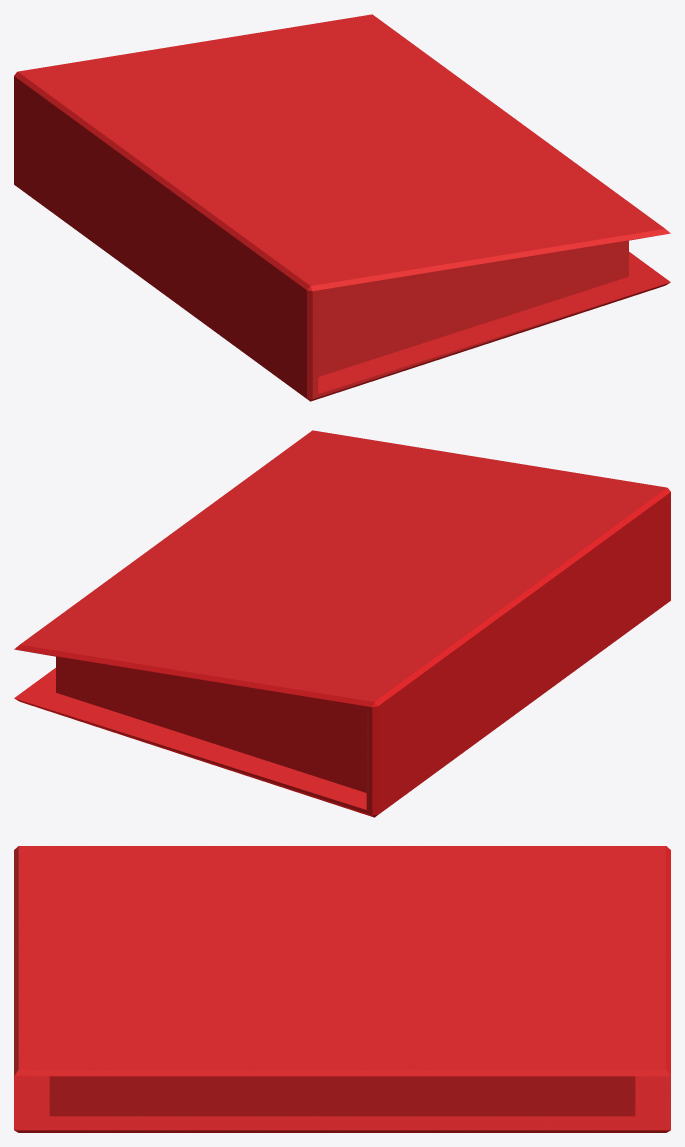
Rendered from DocFolderRed_004.fbx.
The picture shows the model from 3 angles, top to bottom: view 1: azimuth 30°, elevation 25°; view 2: azimuth 150°, elevation 25°; view 3: azimuth 270°, elevation 25°; orthographic projection. The views are drawn at different scales.
Parts seen in each view (by area): view 1: DocFolderRed_004; view 2: DocFolderRed_004; view 3: DocFolderRed_004.
Part boxes in pixels (x1,y1,x2,y2): DocFolderRed_004: [14, 14, 670, 401]; DocFolderRed_004: [14, 430, 670, 817]; DocFolderRed_004: [14, 846, 670, 1132].
Bounding box in the file's own units: 25.83 × 7.88 × 36.71.
1 material, 1 textured.
